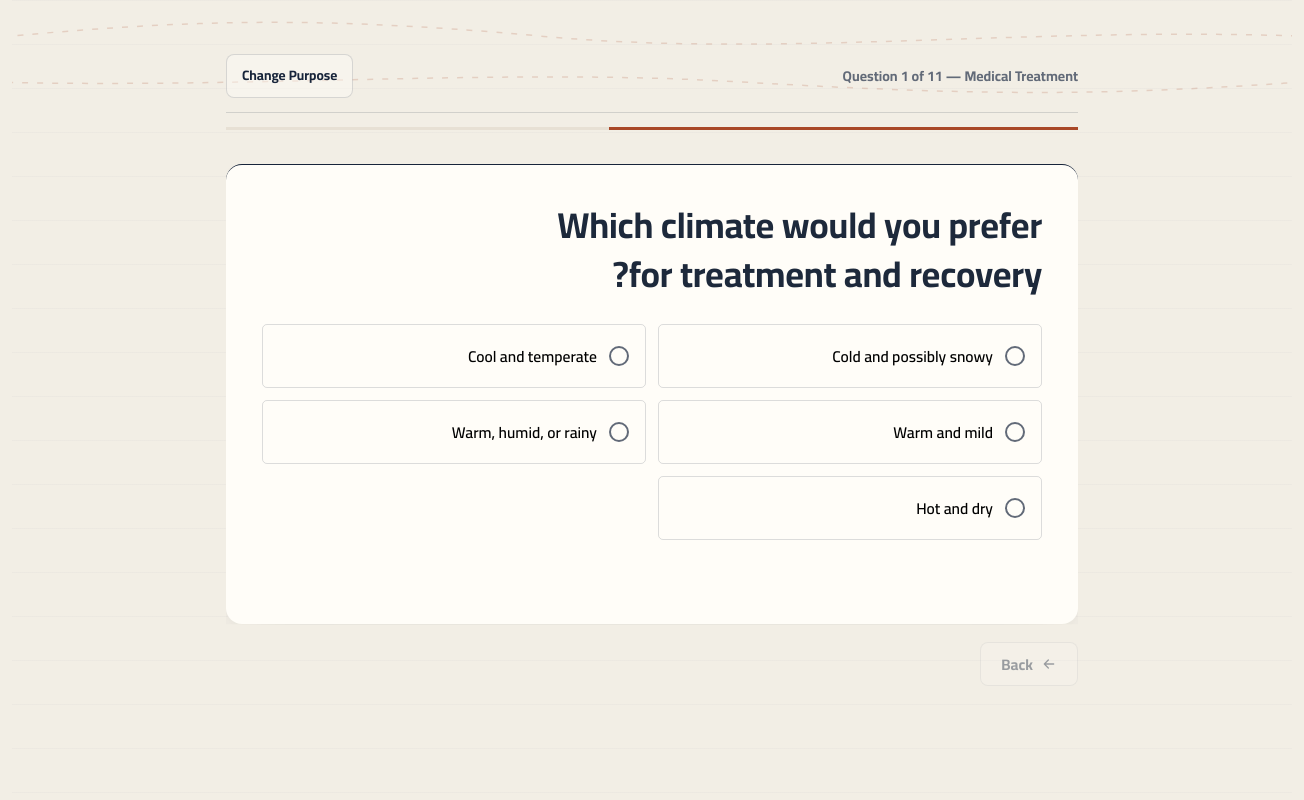
it: geolocation/quiz race — the "no more questions" decision waits for a pending request › shows "Getting your location…" instead of silently finishing when location is still requesting
Click the radio button labelled "Cold and possibly snowy".
click(850, 356)  # box [658, 324, 1042, 388]
Wait 150 ms
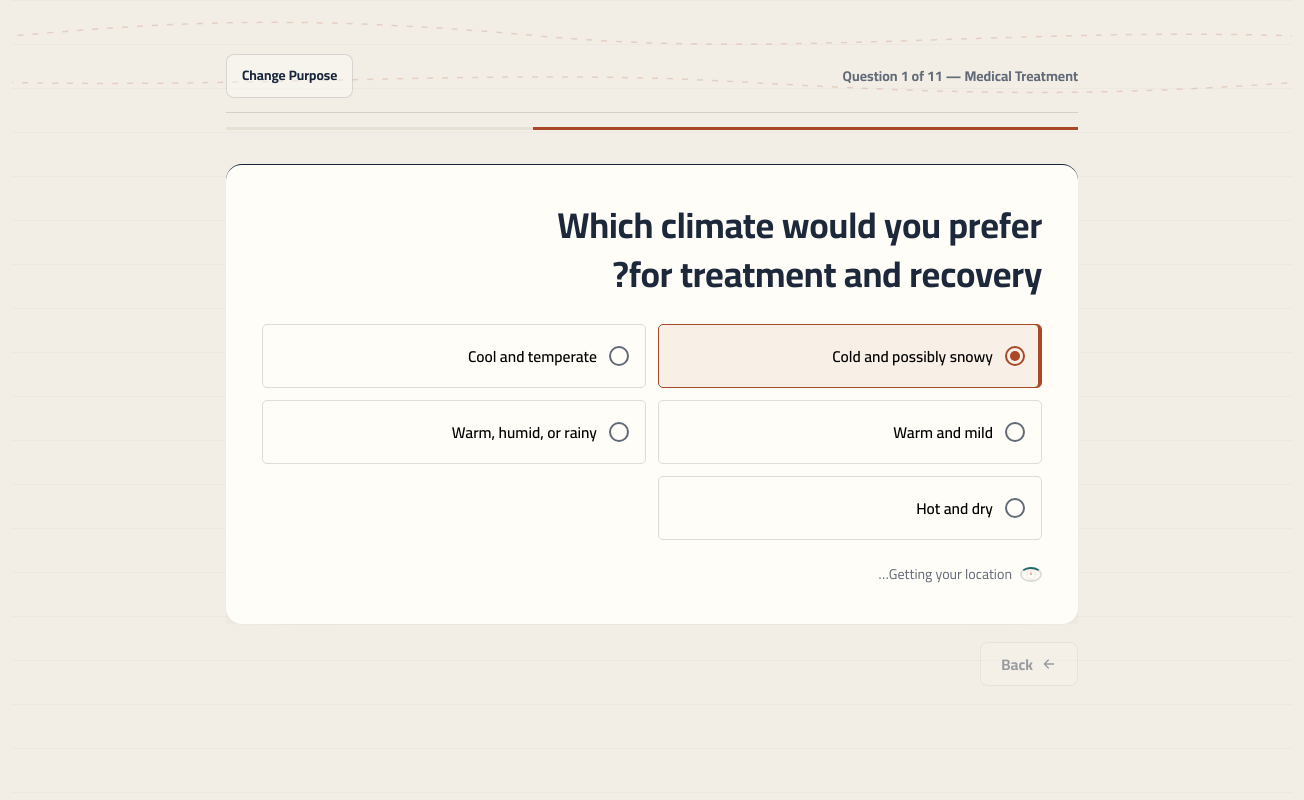
expect the text "Getting your location…" is shown: met, box [878, 561, 1042, 587]
